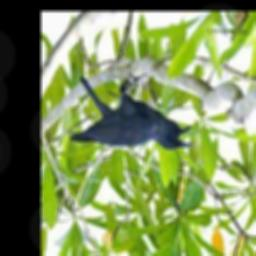Crow: (69, 75, 193, 152)
